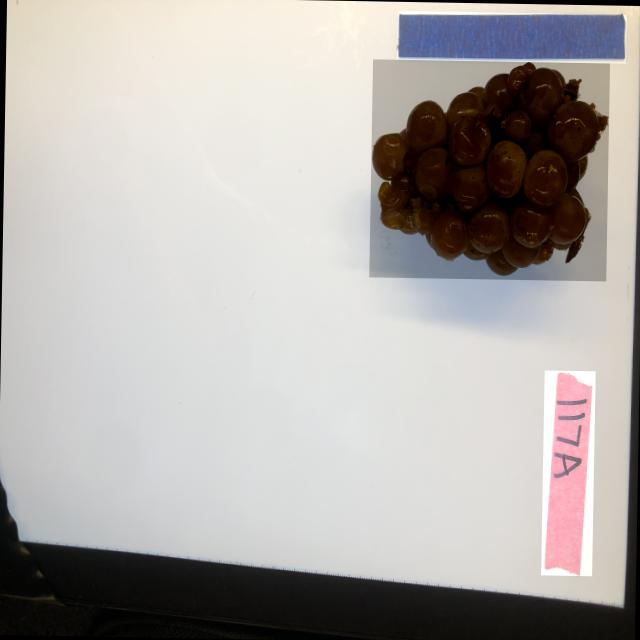grape_cluster: (368, 59, 608, 281)
index: (540, 370, 594, 576)
measure_label: (396, 11, 626, 64)
